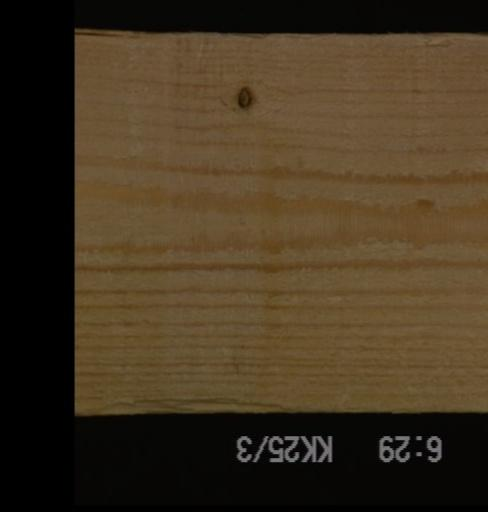dry_knot: (234, 84, 253, 110)
wave: (87, 393, 293, 413)
